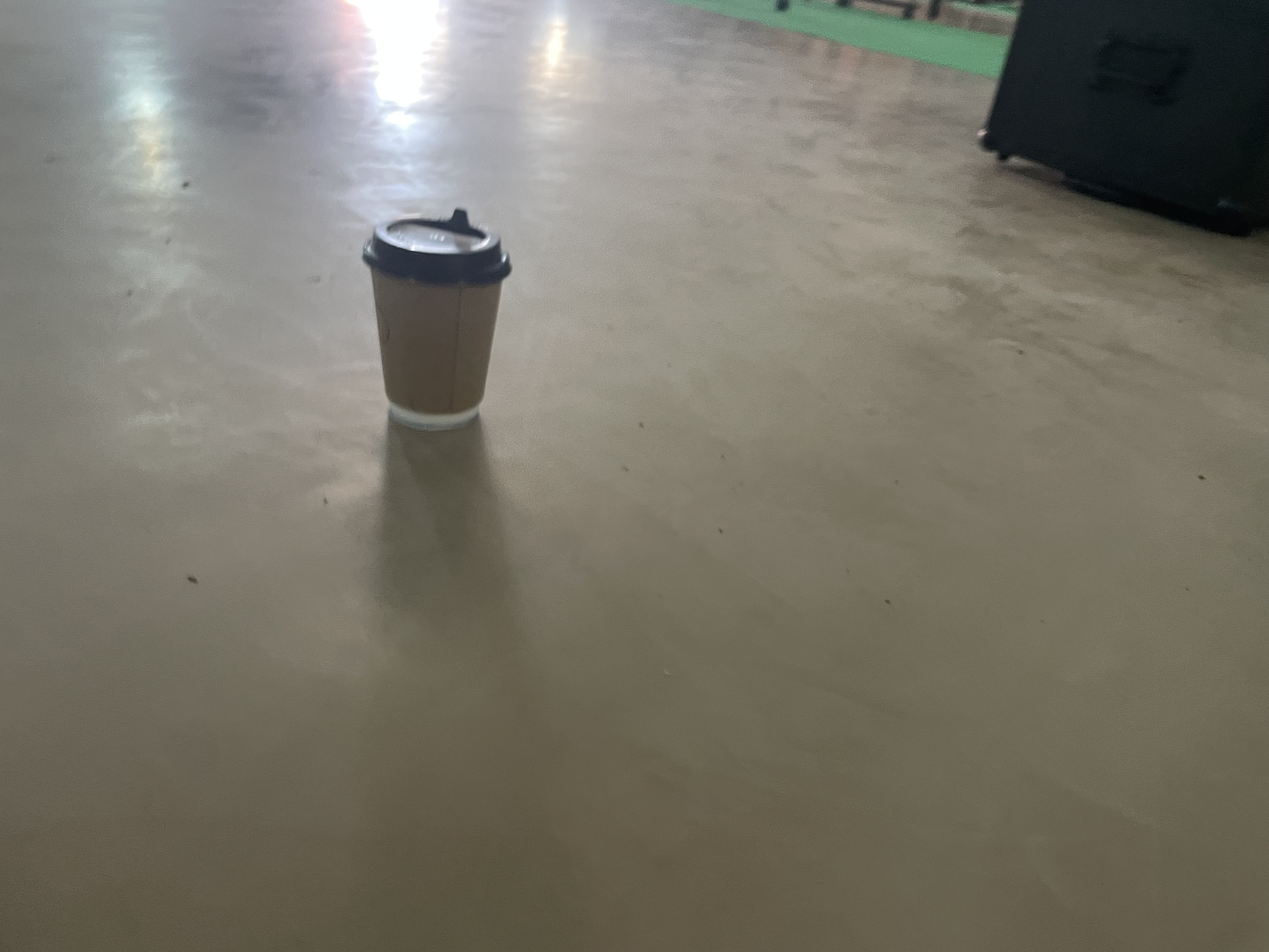cup: (362, 207, 512, 432)
